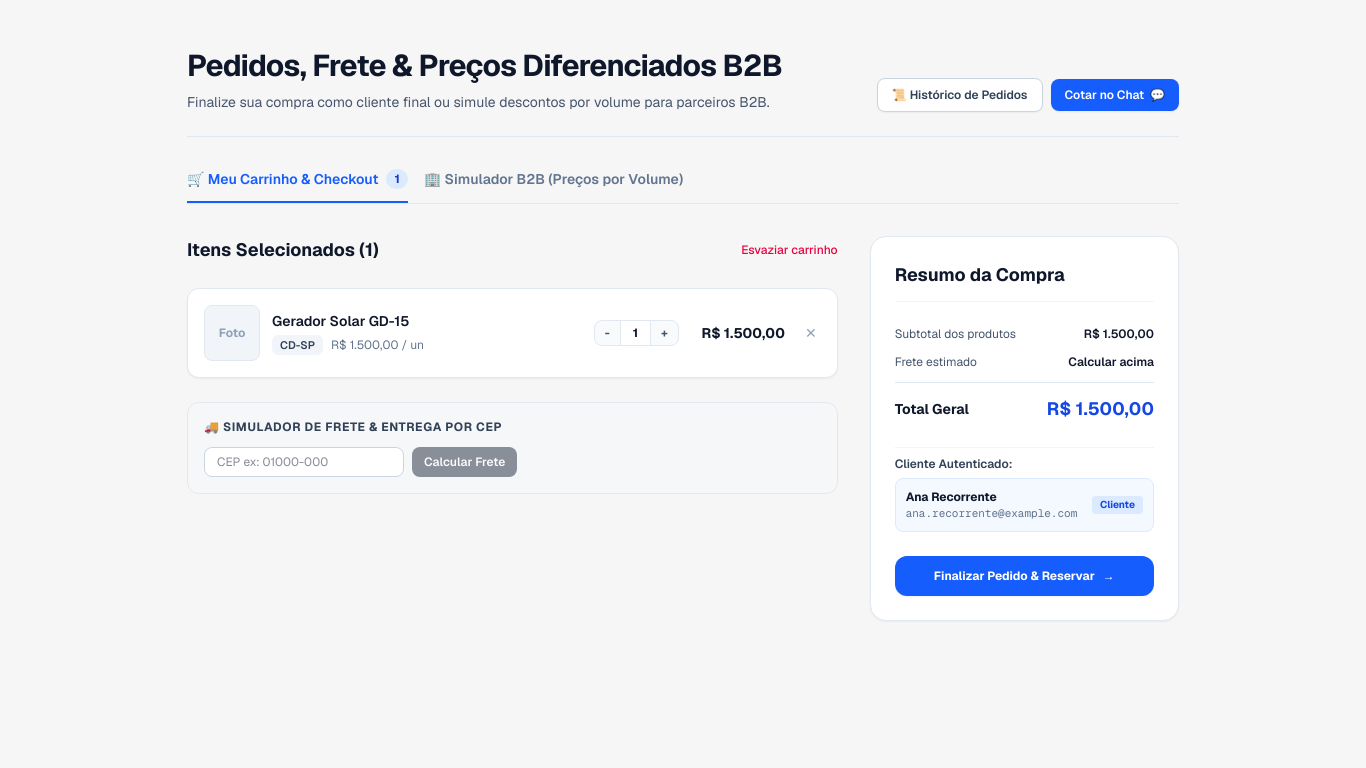
Test case: PedidosPage › renderiza o carrinho e permite finalizar pedido quando autenticado
expect the heading "Pedidos, Frete & Preços Diferenciados B2B" is shown: met, box [187,48,782,84]
expect the text "Ana Recorrente" is shown: met, box [906,489,997,505]
Click the button "Finalizar Pedido & Reservar →" at [1024, 576], box [895,556,1154,596]
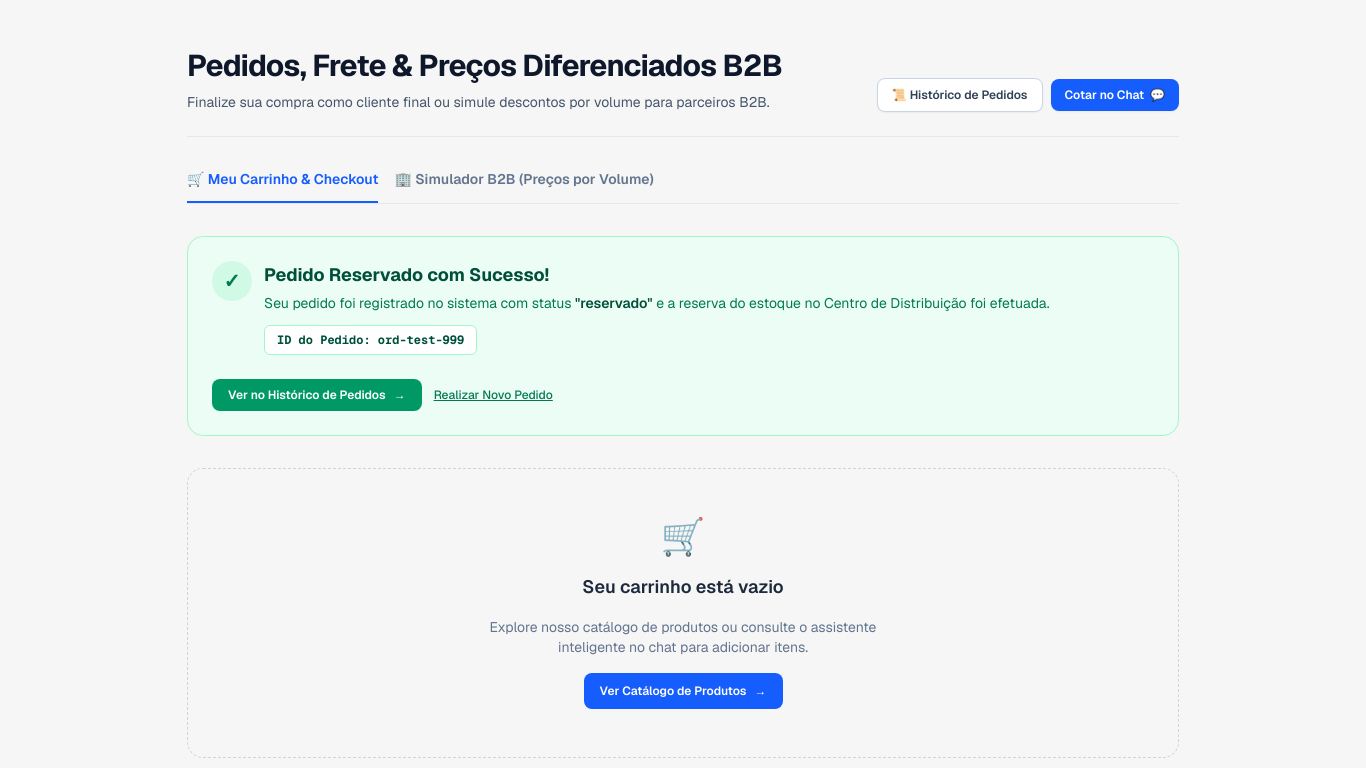
expect the heading "Pedido Reservado com Sucesso!" is shown: met, box [264,263,549,286]
expect the text "ID do Pedido: ord-test-999" is shown: met, box [277,332,464,348]
